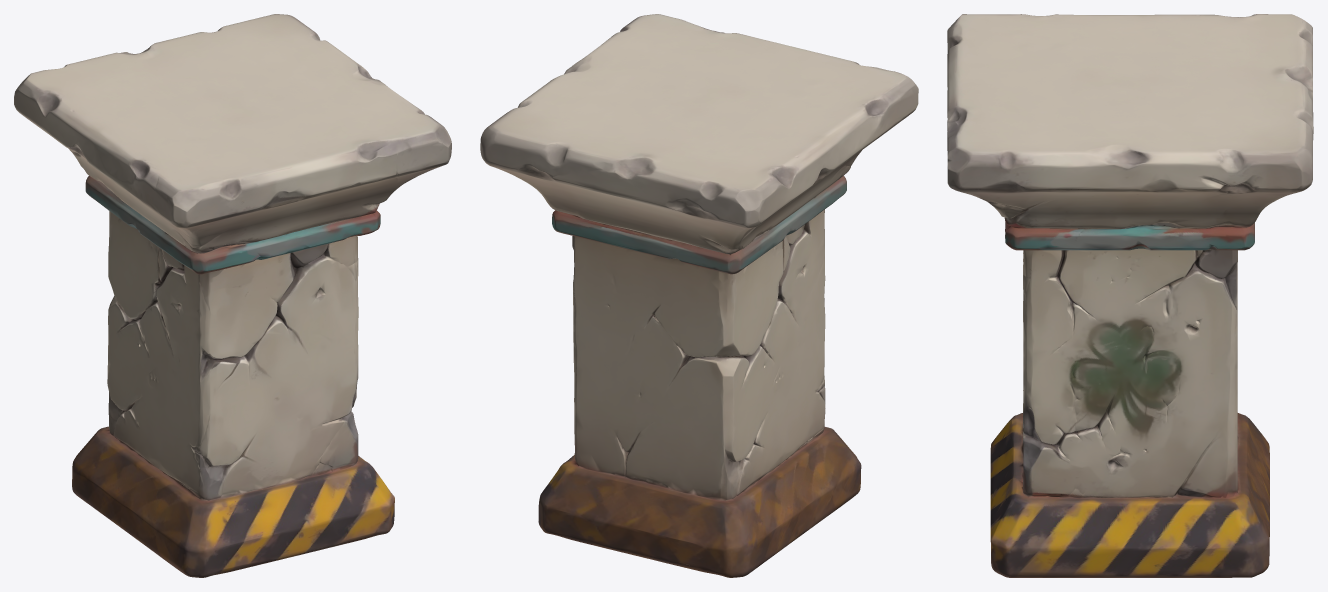
Rendered from overpass_pillar.glb.
3 views of the same model, side by side, from view 1: azimuth 30°, elevation 25°; view 2: azimuth 150°, elevation 25°; view 3: azimuth 270°, elevation 25° (orthographic). The views are drawn at different scales.
Visible parts, largest first — view 1: tripo_node_7f469618-4a2d-428a-9d74-ee82ba555ea7; view 2: tripo_node_7f469618-4a2d-428a-9d74-ee82ba555ea7; view 3: tripo_node_7f469618-4a2d-428a-9d74-ee82ba555ea7.
Part boxes in pixels (box(x1,y1,x2,y2)): tripo_node_7f469618-4a2d-428a-9d74-ee82ba555ea7: box(14, 14, 451, 577); tripo_node_7f469618-4a2d-428a-9d74-ee82ba555ea7: box(480, 14, 918, 577); tripo_node_7f469618-4a2d-428a-9d74-ee82ba555ea7: box(947, 14, 1313, 577).
Bounding box in the file's own units: 0.698 × 0.9796 × 0.7332.
Materials: 1 (1 with a texture image).
